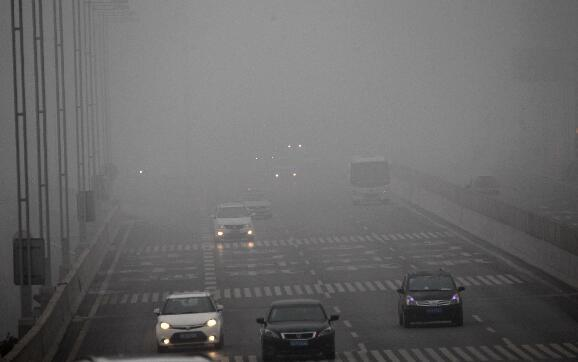bus: (347, 157, 392, 206)
car: (255, 297, 341, 362), (152, 293, 225, 352), (394, 269, 466, 327), (208, 200, 257, 240), (240, 186, 272, 218), (467, 168, 502, 195), (270, 158, 300, 184), (285, 139, 308, 156)
